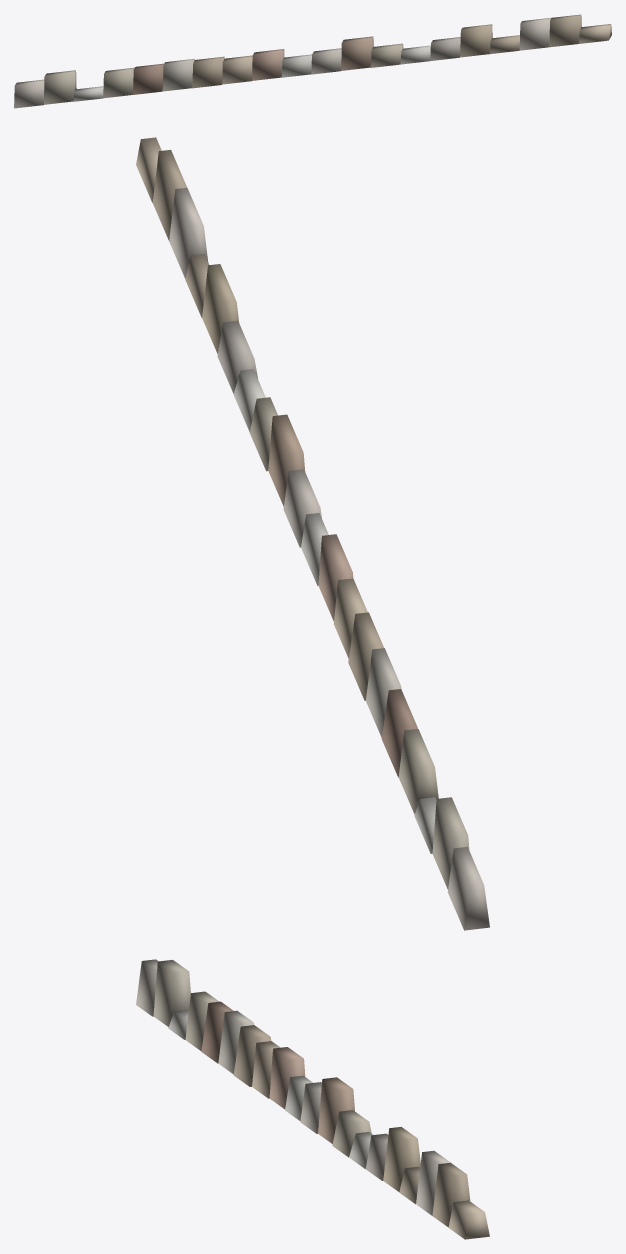
Rendered from farm_-23_-26_collision.glb.
3 renders of one model, top to bottom at view 1: azimuth 30°, elevation 25°; view 2: azimuth 150°, elevation 25°; view 3: azimuth 330°, elevation 25°, orthographic. The views are drawn at different scales.
Visible parts, largest first — view 1: geometry_0; view 2: geometry_0; view 3: geometry_0.
Part boxes in pixels (x1,y1,x2,y2): geometry_0: [14, 14, 611, 108]; geometry_0: [136, 137, 489, 930]; geometry_0: [136, 959, 489, 1239].
Size of the model in its own units: 23.19 by 8.68 by 22.8.
